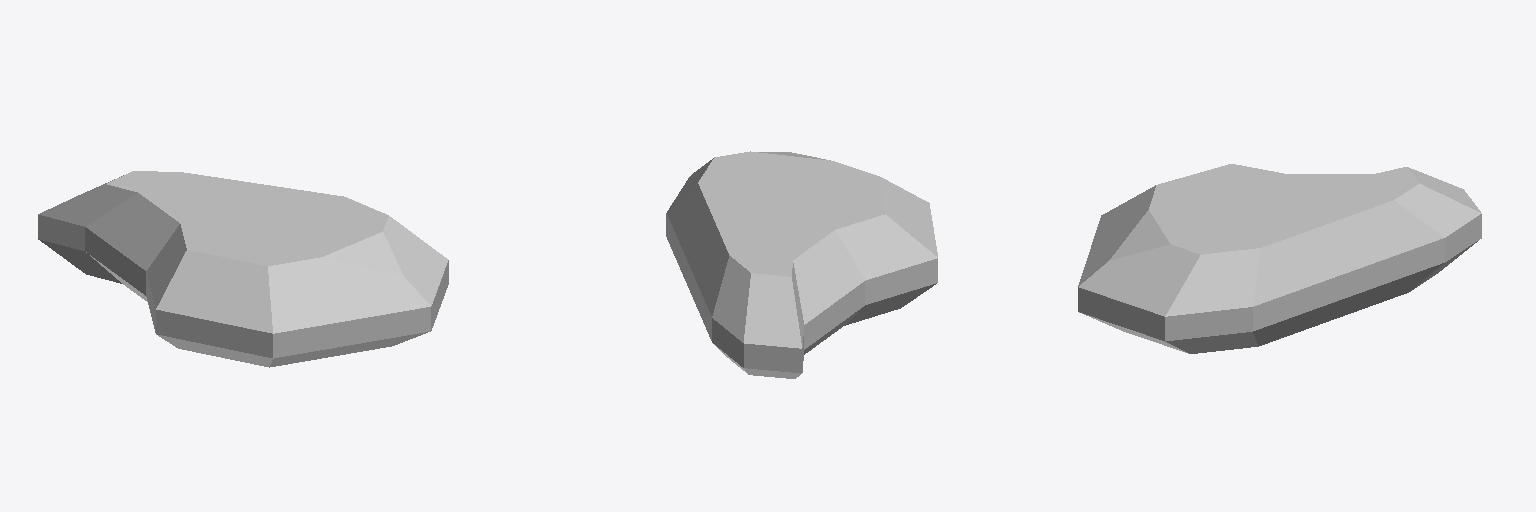
The model's file is rock_largeA.obj.
3 views of the same model, side by side, from view 1: azimuth 30°, elevation 25°; view 2: azimuth 150°, elevation 25°; view 3: azimuth 270°, elevation 25° (orthographic).
Visible parts, largest first — view 1: rock_largeA; view 2: rock_largeA; view 3: rock_largeA.
Boxes of the visible parts, x1,y1,x2,y2 form: rock_largeA: [38, 171, 448, 367]; rock_largeA: [666, 151, 937, 378]; rock_largeA: [1078, 164, 1481, 353].
Bounding box in the file's own units: 0.7849 × 0.2598 × 1.02.